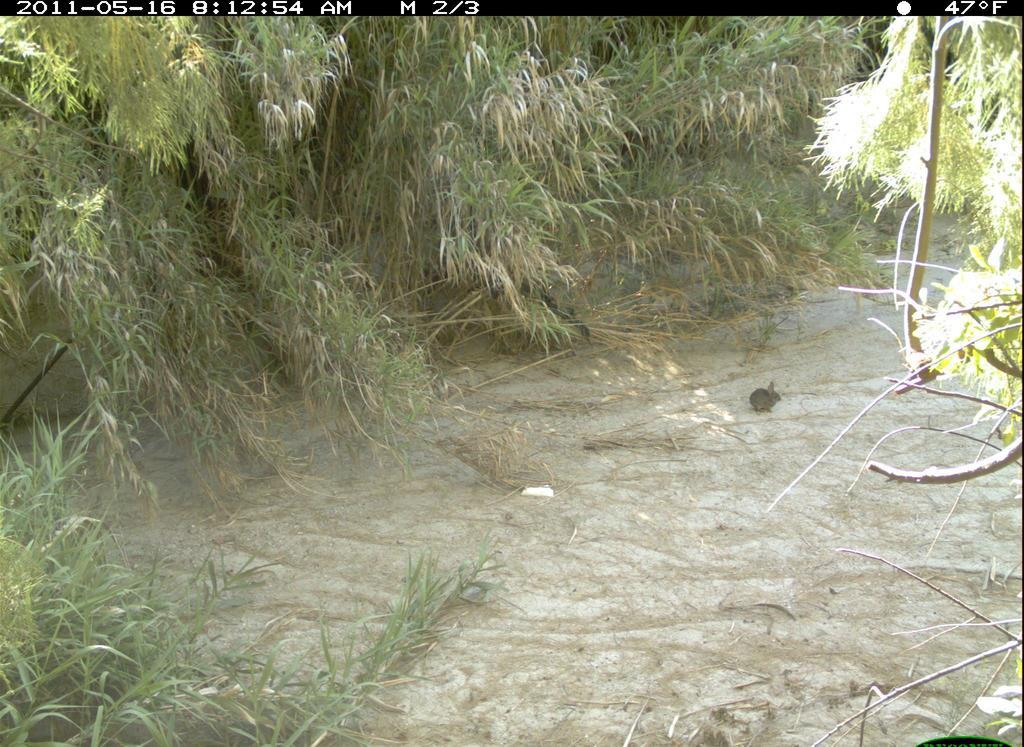rabbit: (740, 379, 788, 420)
